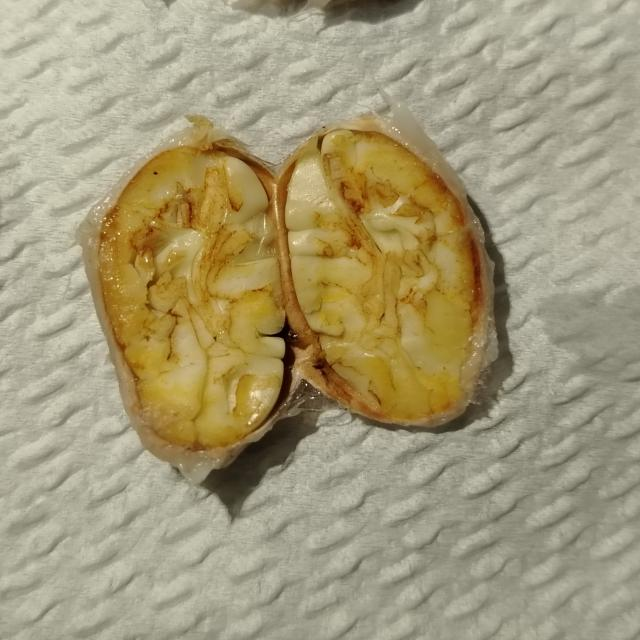Criollo: (276, 132, 488, 430), (112, 155, 276, 460)
